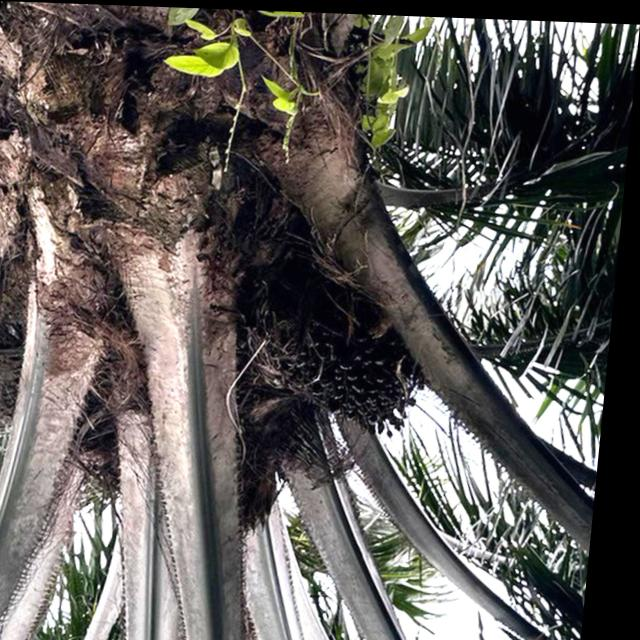almost: (272, 275, 442, 446)
